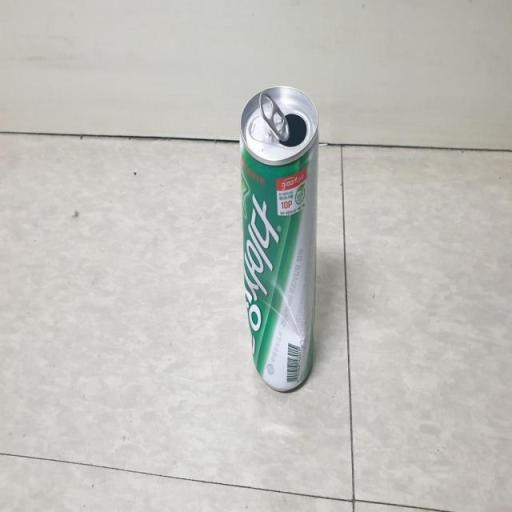metal: (218, 69, 334, 406)
